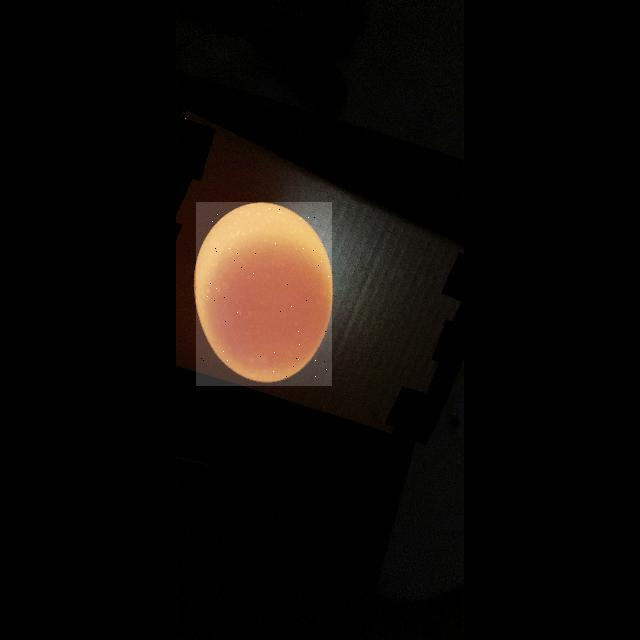A - Good: (196, 202, 332, 386)
